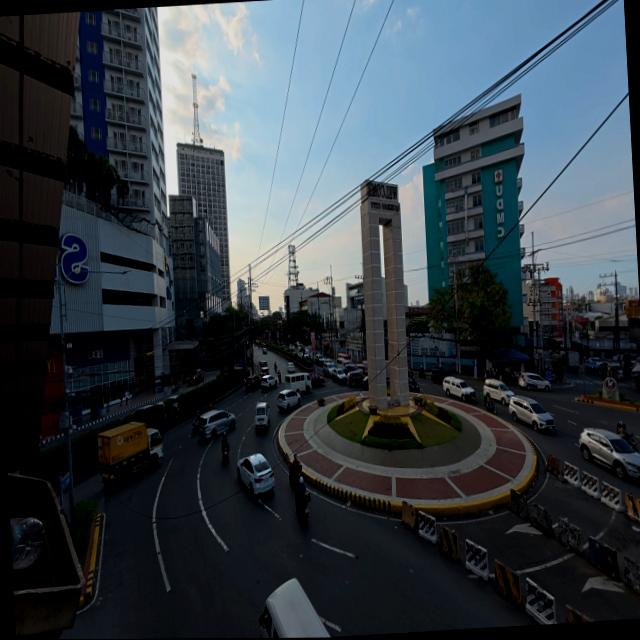car: (578, 429, 639, 479), (508, 396, 553, 431), (237, 453, 274, 494), (197, 410, 234, 438), (442, 376, 474, 402), (276, 389, 300, 411), (583, 357, 604, 376), (603, 360, 622, 379), (428, 367, 447, 384), (259, 375, 276, 391), (346, 370, 363, 386), (187, 369, 202, 385), (331, 367, 345, 384), (244, 375, 259, 390), (166, 396, 179, 412), (322, 361, 334, 377), (310, 373, 323, 387), (343, 362, 356, 374), (258, 361, 268, 376), (314, 355, 326, 367), (356, 364, 367, 375), (286, 362, 296, 374), (564, 365, 578, 373), (361, 376, 368, 389), (260, 367, 268, 377), (288, 345, 294, 352), (262, 347, 266, 355)
motorcycle: (296, 493, 309, 523), (288, 462, 301, 491), (481, 395, 496, 414), (624, 434, 637, 452), (191, 411, 201, 434), (484, 368, 503, 380), (408, 378, 419, 392), (221, 443, 228, 462), (170, 382, 180, 393), (418, 368, 427, 379), (634, 376, 639, 389)
trucks: (97, 423, 162, 481), (564, 352, 579, 373)
vans: (259, 579, 330, 637), (442, 376, 474, 402), (483, 379, 512, 405), (518, 373, 549, 391), (284, 374, 311, 392), (254, 402, 268, 430)
